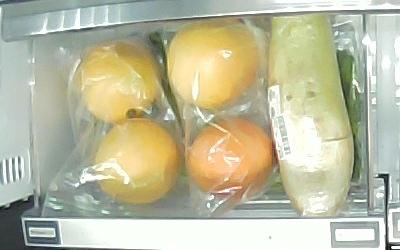grapefruit_vinyl: (167, 19, 260, 108), (94, 119, 180, 203), (81, 41, 163, 125), (187, 118, 274, 197)
